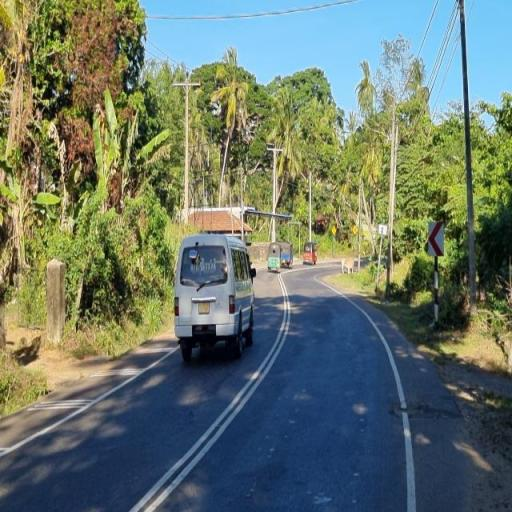double_white_line: (132, 281, 293, 512)
